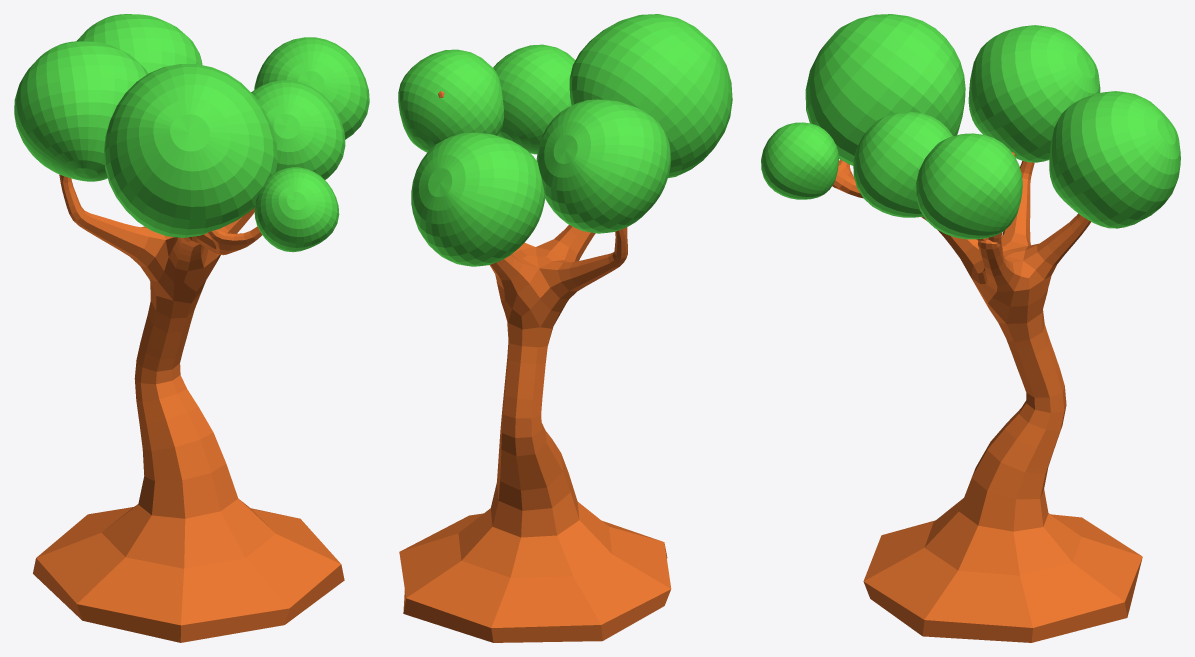
The model's file is Arvore_viva_3.fbx.
The picture shows the model from 3 angles, left to right: view 1: azimuth 30°, elevation 25°; view 2: azimuth 150°, elevation 25°; view 3: azimuth 270°, elevation 25°; orthographic projection. The views are drawn at different scales.
Parts seen in each view (by area): view 1: Vert, Sphere.001, Sphere.004, Sphere.002, Sphere, Sphere.003, Sphere.005; view 2: Vert, Sphere.001, Sphere.005, Sphere.004, Sphere, Sphere.002; view 3: Vert, Sphere.001, Sphere.005, Sphere.004, Sphere, Sphere.002, Sphere.003.
Part boxes in pixels (x1=…): Vert: x1=33, y1=174, x2=344, y2=642; Sphere.001: x1=104, y1=64, x2=277, y2=237; Sphere.004: x1=14, y1=41, x2=148, y2=181; Sphere.002: x1=251, y1=80, x2=345, y2=179; Sphere: x1=254, y1=37, x2=369, y2=139; Sphere.003: x1=254, y1=167, x2=339, y2=252; Sphere.005: x1=76, y1=14, x2=202, y2=73; Vert: x1=399, y1=91, x2=671, y2=642; Sphere.001: x1=569, y1=14, x2=732, y2=177; Sphere.005: x1=411, y1=132, x2=545, y2=266; Sphere.004: x1=536, y1=99, x2=670, y2=233; Sphere: x1=398, y1=49, x2=503, y2=152; Sphere.002: x1=493, y1=44, x2=575, y2=154; Vert: x1=832, y1=152, x2=1142, y2=642; Sphere.001: x1=805, y1=14, x2=965, y2=165; Sphere.005: x1=1049, y1=91, x2=1180, y2=228; Sphere.004: x1=968, y1=25, x2=1100, y2=162; Sphere: x1=916, y1=133, x2=1022, y2=239; Sphere.002: x1=853, y1=111, x2=952, y2=217; Sphere.003: x1=761, y1=122, x2=838, y2=199.
Size of the model in its own units: 1039 by 1889 by 1321.
